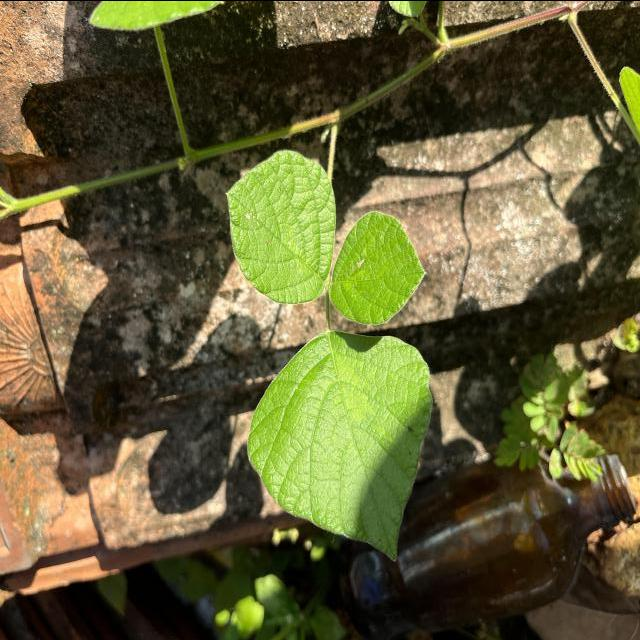Pseudarthria viscida: (221, 143, 438, 563)
